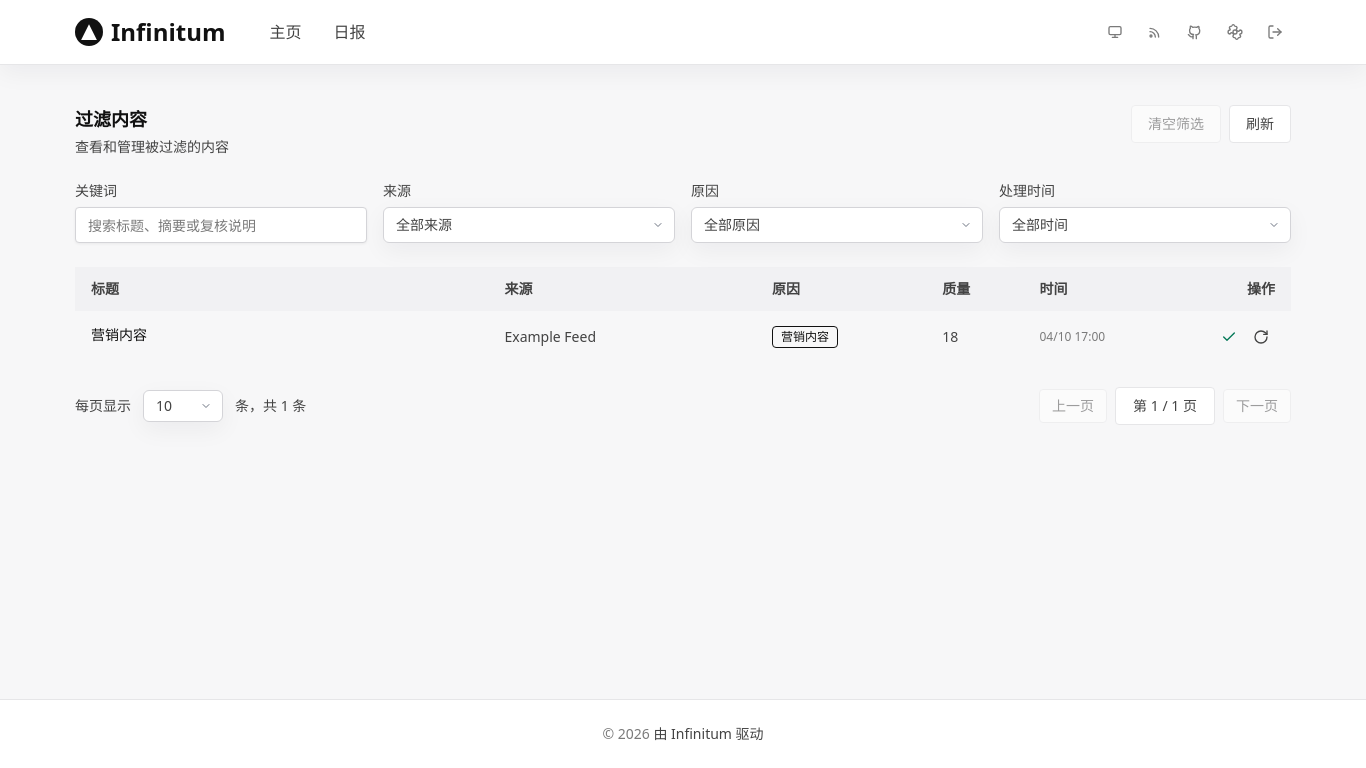
Test: ContentReviewPanel › shows an error when reanalyze returns 202 without taskRun
This screenshot has width=1366, height=768.
Expected: the button "营销内容" is shown, x1=91 y1=324 x2=472 y2=344
Click the button titled "重新 AI 判定": x=1261, y=337 x1=1247 y1=323 x2=1275 y2=351
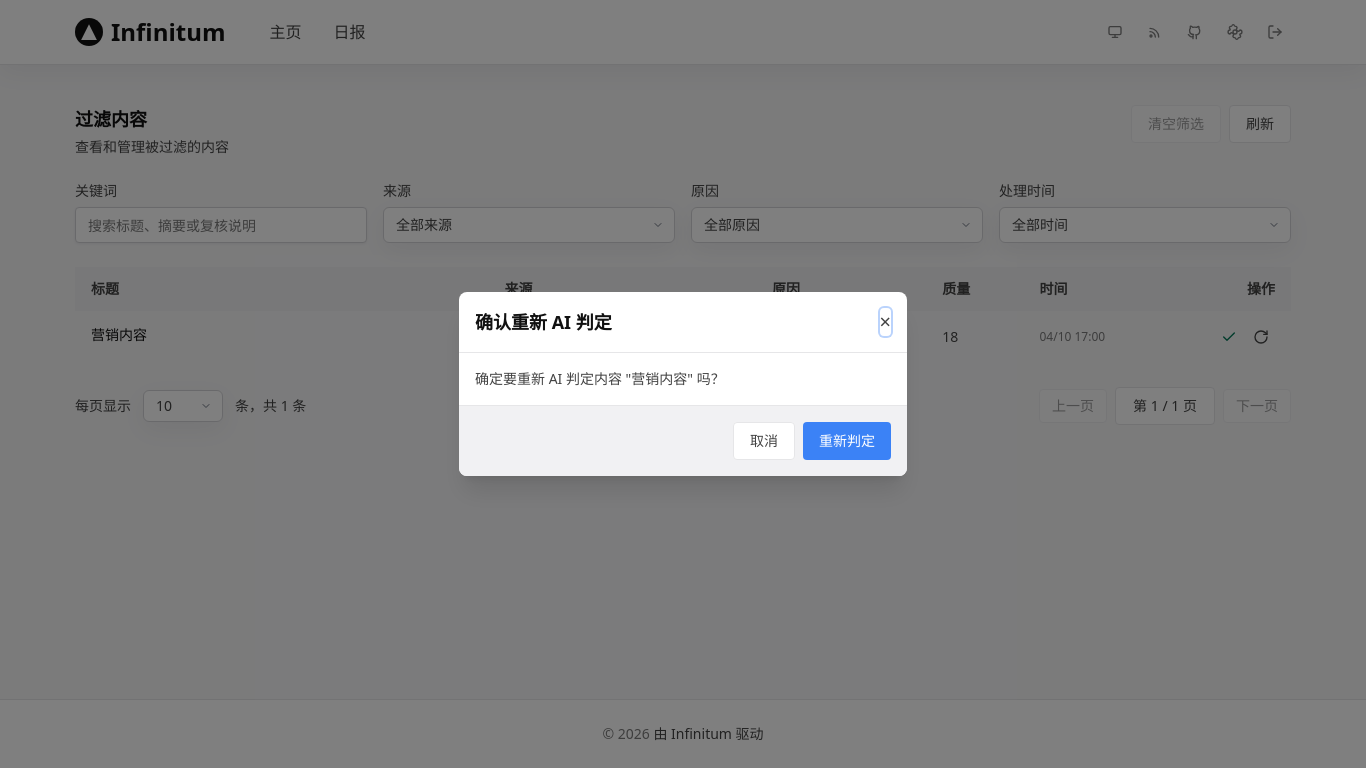
Expected: the dialog "确认重新 AI 判定" is shown, x1=459 y1=292 x2=907 y2=476
Click the button "重新判定": x=847, y=441 x1=803 y1=422 x2=891 y2=460
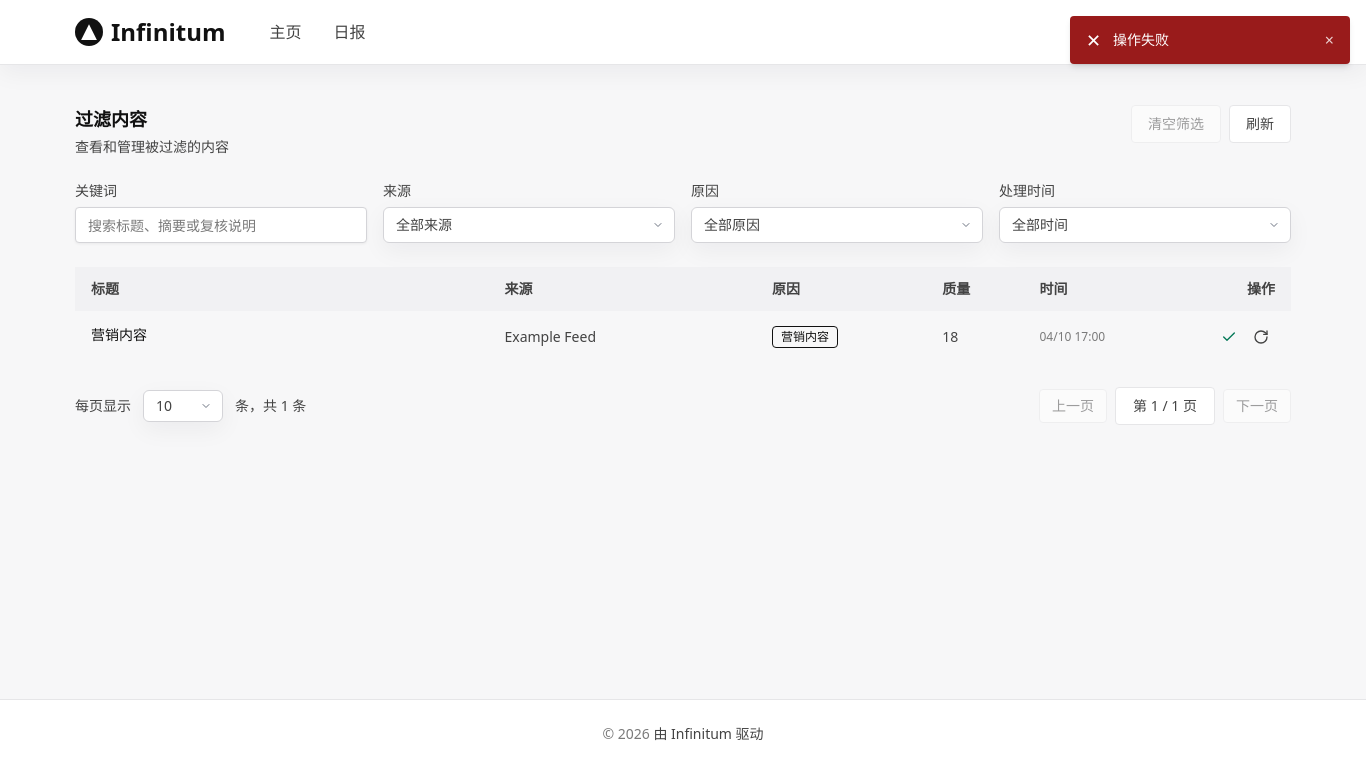
Expected: the button "营销内容" is shown, x1=91 y1=324 x2=472 y2=344
Expected: the message shows "操作失败", x1=1113 y1=30 x2=1169 y2=49
